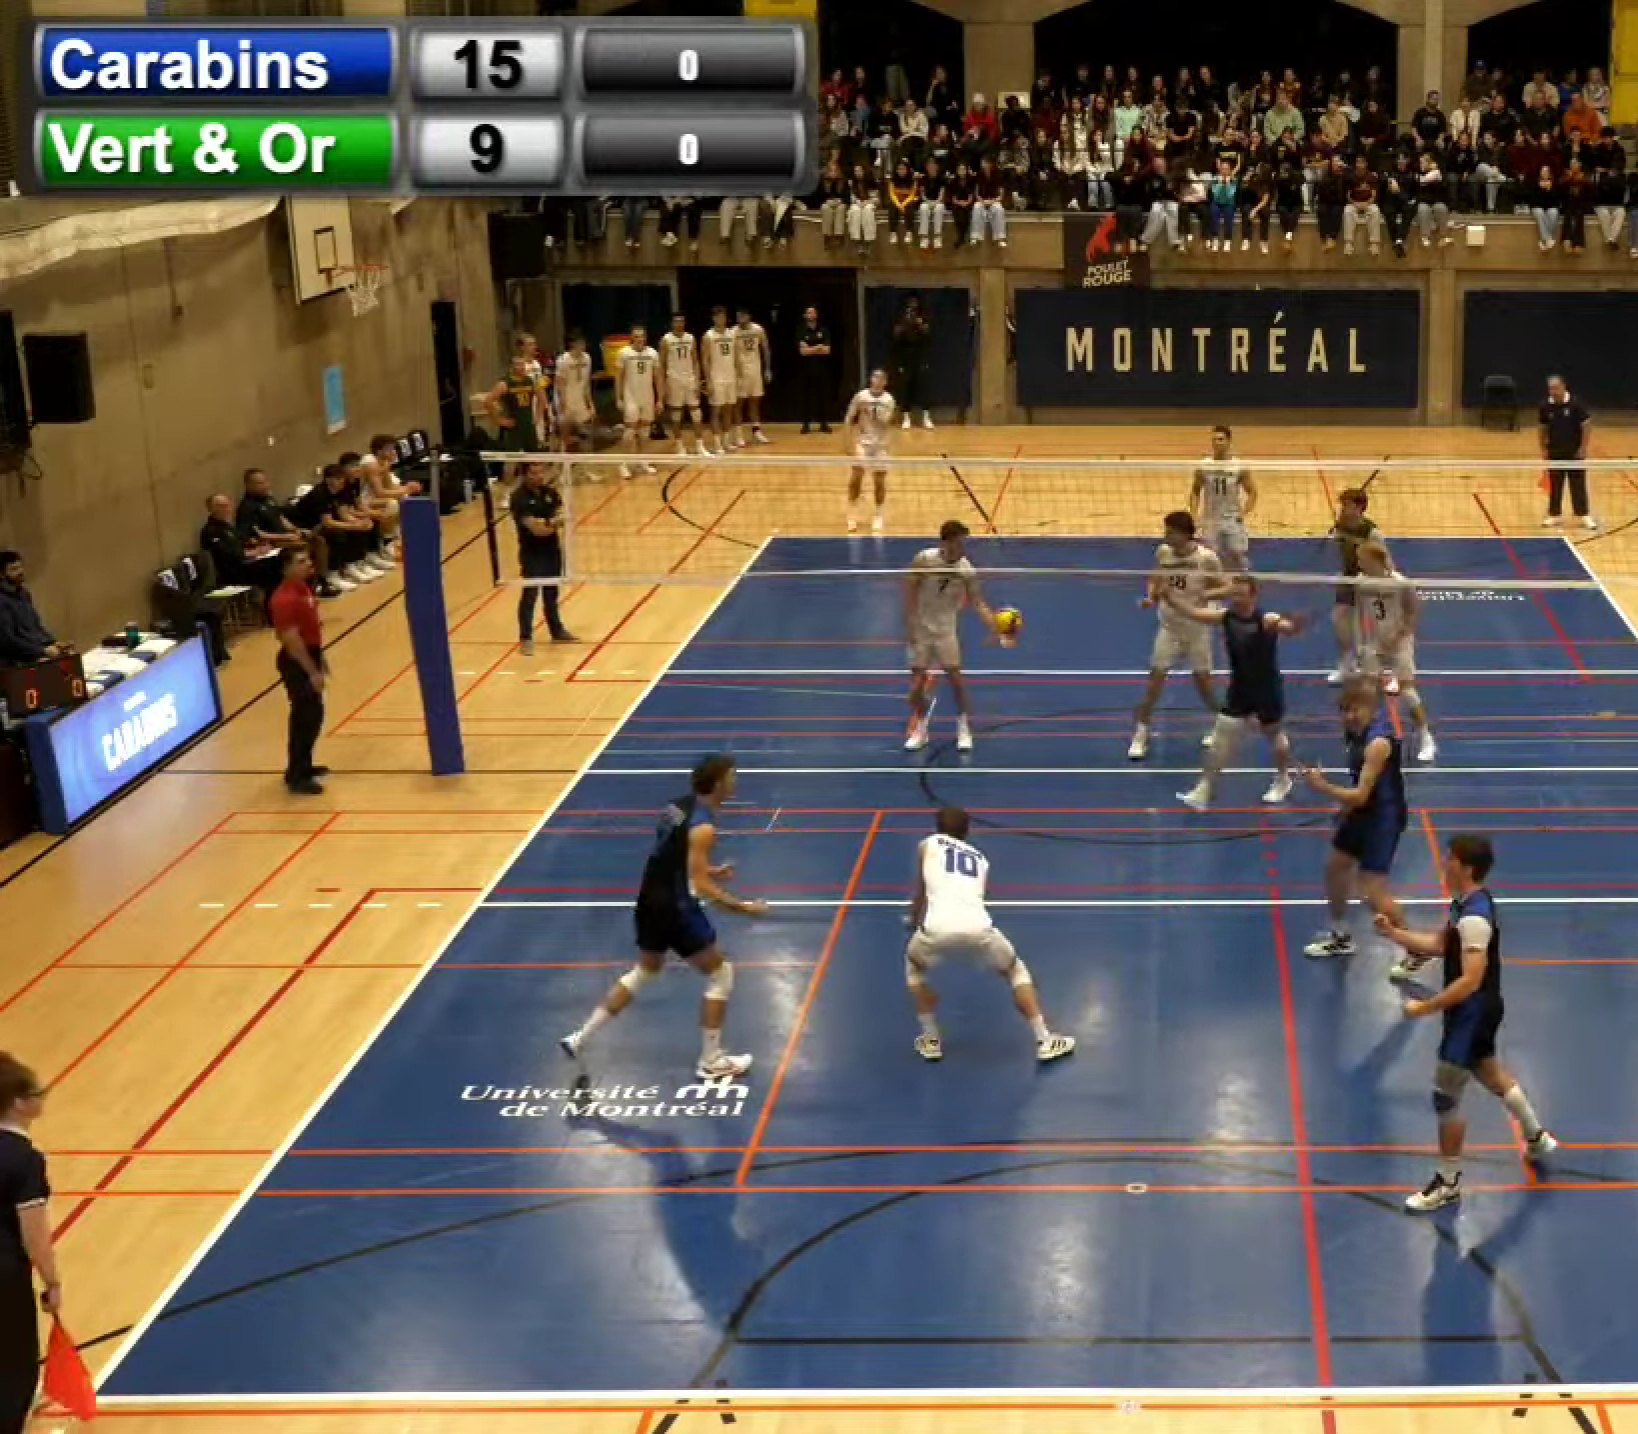Ball: (989, 600, 1029, 639)
